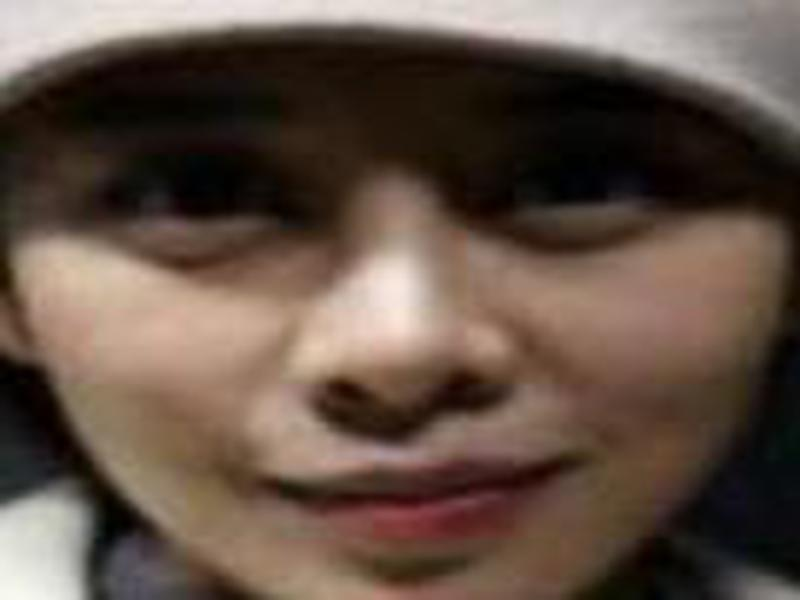without_mask: (44, 85, 761, 600)
